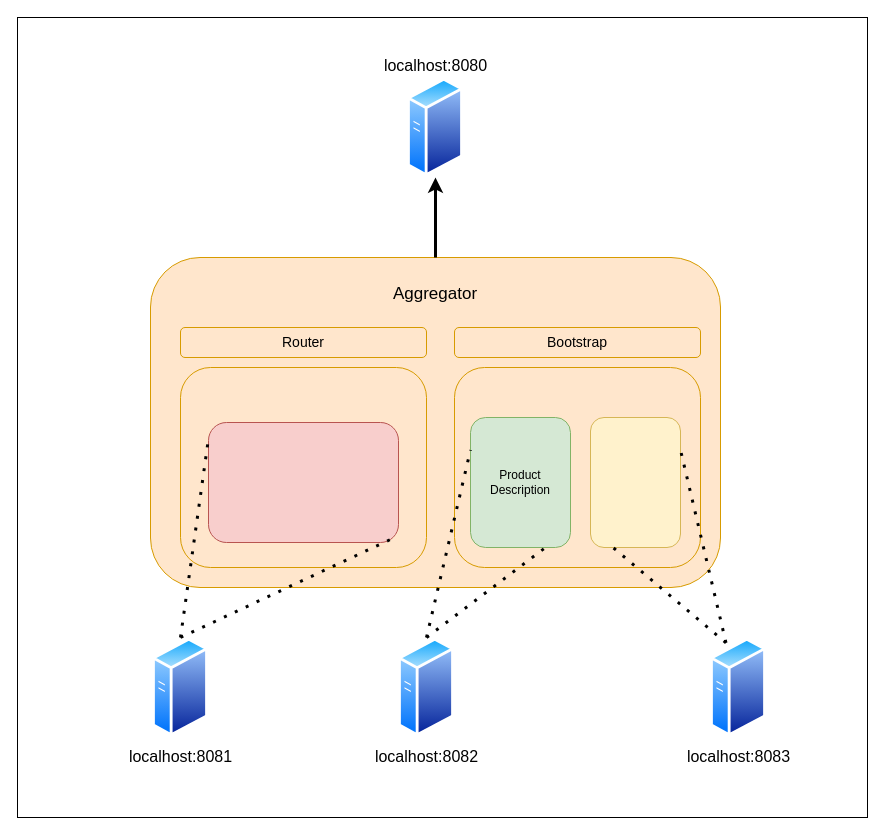
This 885x835 diagram has some shape labels left out. The box of each missing label's shape, as (x1, y1, x2, y2) in pixels:
Catalog: (208, 422, 398, 542)
Catalog Page: (180, 366, 426, 568)
Product Page: (454, 366, 700, 568)
Purchase: (590, 416, 680, 548)
